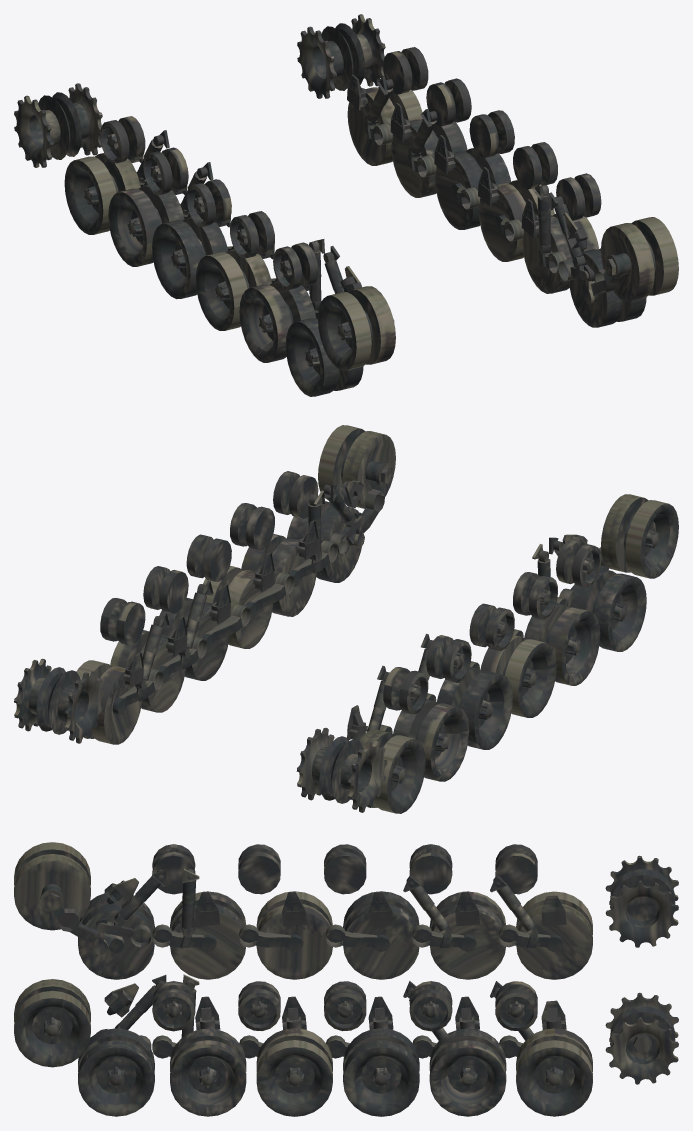
Rendered from pershing_hull_m0.obj.
3 views of the same model, one above another, from view 1: azimuth 30°, elevation 25°; view 2: azimuth 150°, elevation 25°; view 3: azimuth 270°, elevation 25° (orthographic).
Visible parts, largest first — view 1: pershing_hull_m0; view 2: pershing_hull_m0; view 3: pershing_hull_m0.
Boxes of the visible parts, <box> form: pershing_hull_m0: <box>14,14,678,396</box>; pershing_hull_m0: <box>14,425,678,813</box>; pershing_hull_m0: <box>14,842,678,1116</box>.
Size of the model in its own units: 3.24 by 1.12 by 5.58.
Materials: 1 (1 with a texture image).
